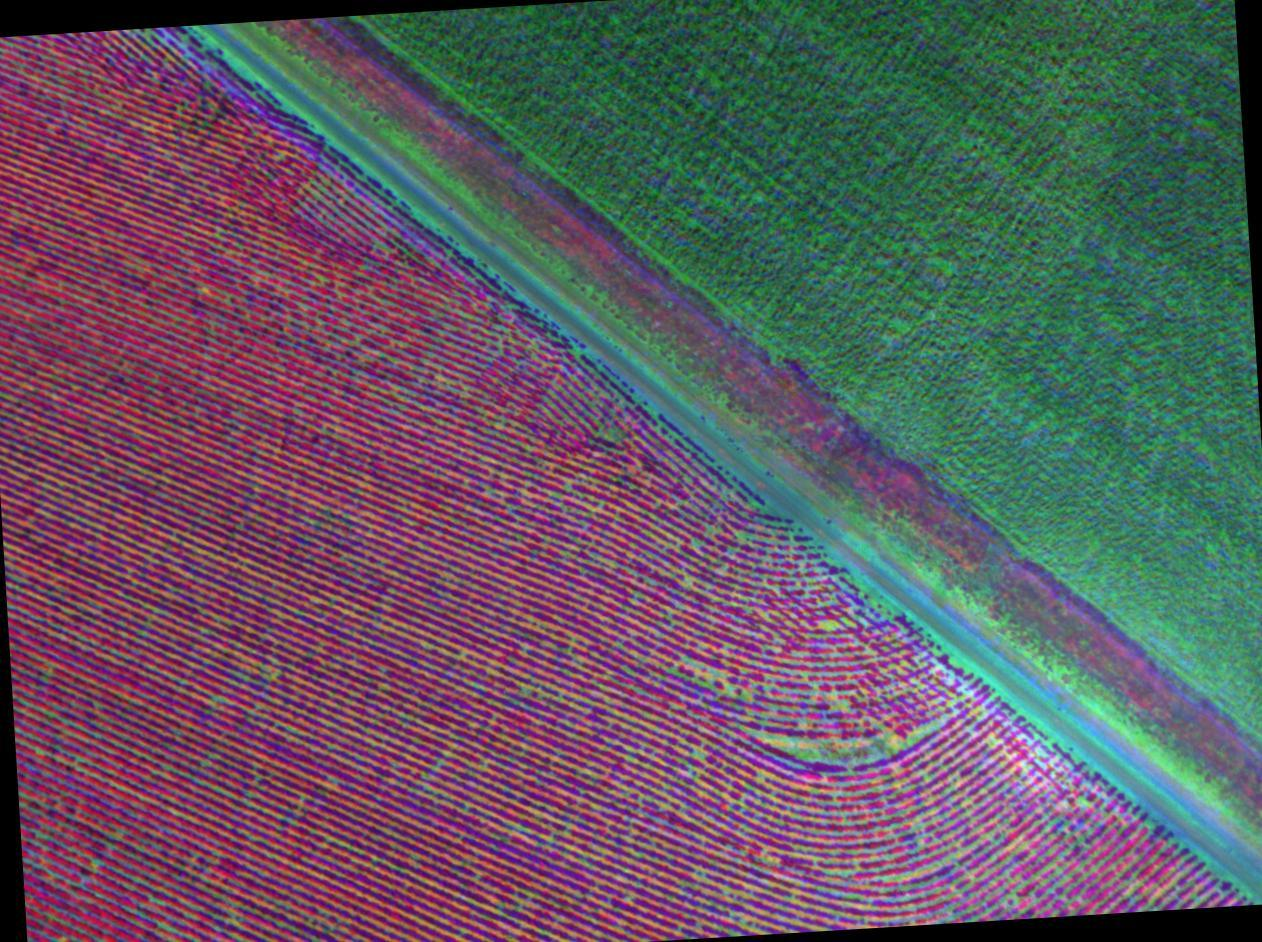dc: (731, 713, 956, 762), (813, 838, 1006, 883), (658, 630, 759, 706), (666, 515, 765, 590), (131, 883, 254, 942)
